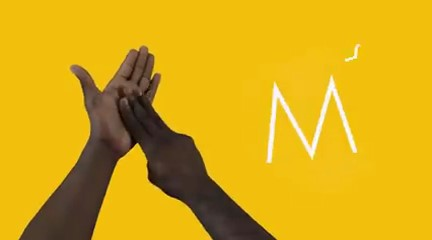M: (59, 37, 219, 206)
